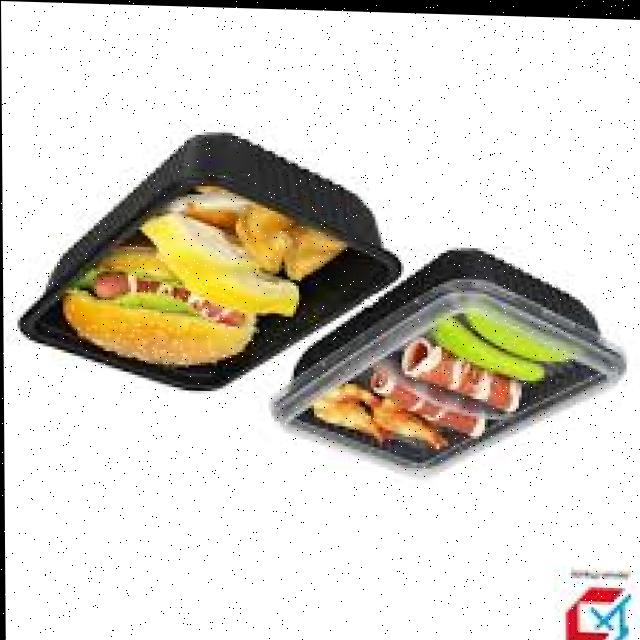disposable: (6, 117, 410, 403), (290, 217, 621, 500)
